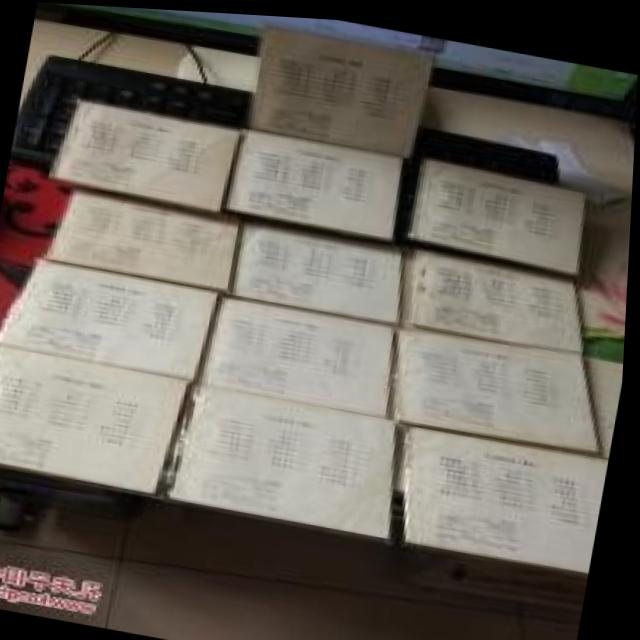box: (168, 377, 400, 534), (410, 420, 613, 565), (0, 343, 194, 491), (392, 318, 602, 449), (0, 258, 223, 377), (247, 20, 433, 153), (200, 291, 398, 410), (50, 99, 244, 211), (405, 154, 588, 271), (45, 184, 242, 290), (225, 125, 404, 239), (404, 241, 585, 346), (232, 215, 405, 320), (588, 349, 627, 450)
